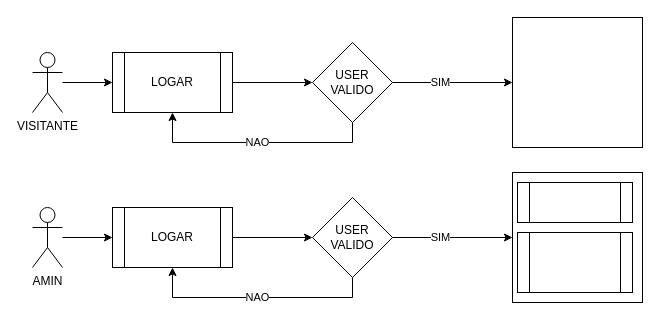
The diagram is 660 pixels wide and 323 high, and some of its shapes have lost their labels. Here are the shapes that lost their labels. From the top down, the centre of each, then its label:
At (x=577, y=82): "GET POSTS".
At (x=574, y=202): "ADM PAGE".
At (x=574, y=262): "CRUD POSTS".
